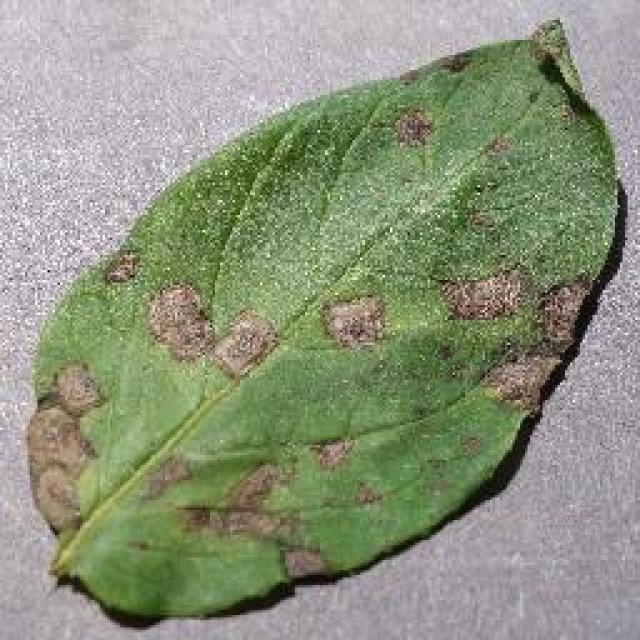early_blight: (22, 13, 628, 625)
